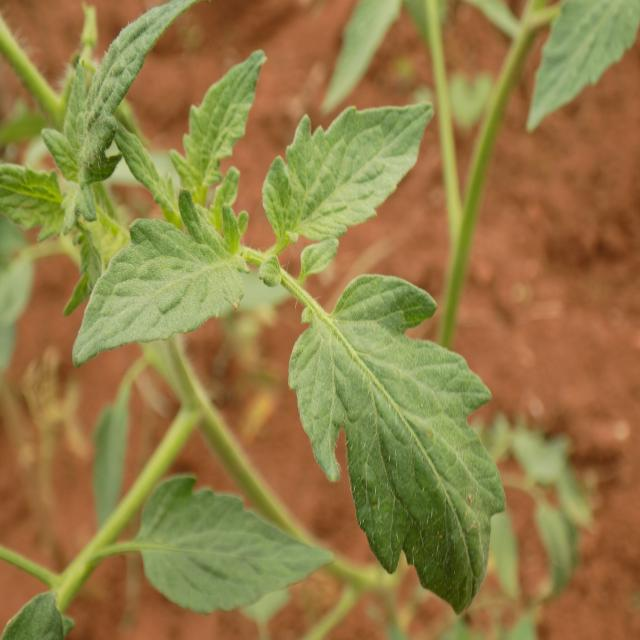tomato_healthy: (287, 273, 513, 613), (137, 476, 334, 614), (73, 215, 247, 363), (49, 3, 185, 184), (262, 104, 437, 240)
